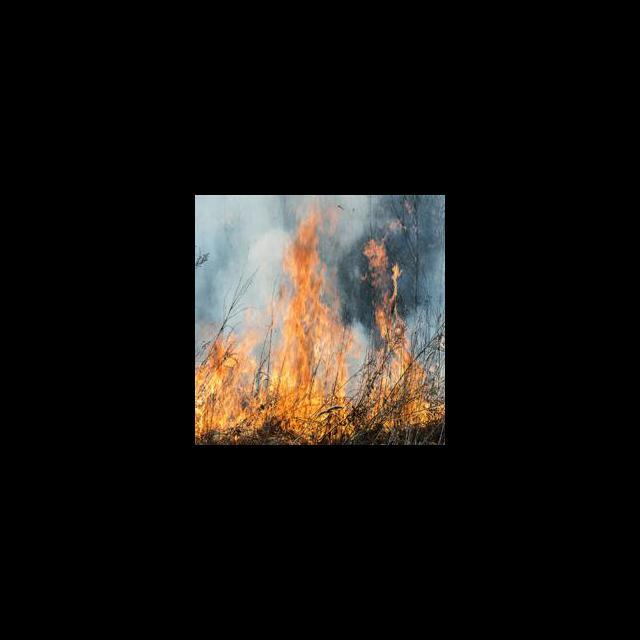Fire: (196, 203, 445, 444)
